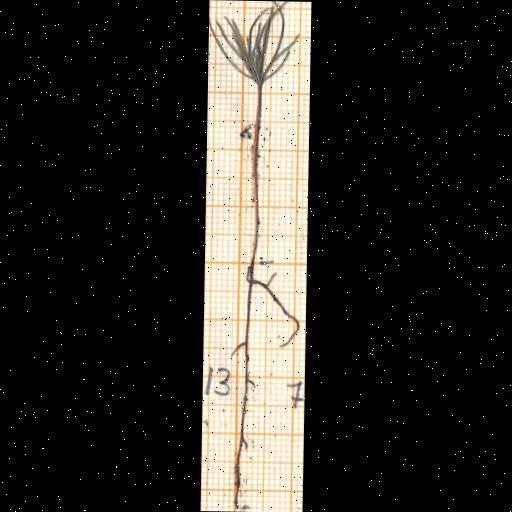flowerPinus: (211, 0, 299, 87)
rootPinus: (232, 265, 300, 508)
stemPinus: (251, 85, 264, 260)
